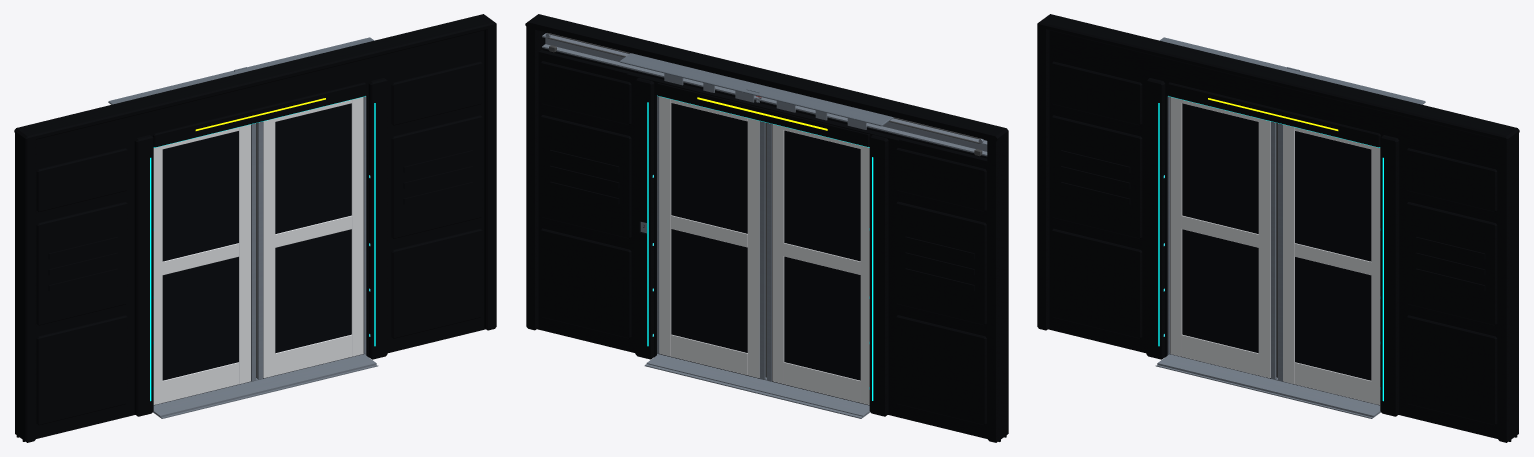
3 views of the same model, side by side, from view 1: azimuth 30°, elevation 25°; view 2: azimuth 150°, elevation 25°; view 3: azimuth 330°, elevation 25° (orthographic).
Parts seen in each view (by area): view 1: frame, leaf_R_core, leaf_L_core, leaf_R_face, leaf_L_face, threshold, leaf_R_stiles, slide_AccessPanel, leaf_L_stiles, reveal_strips, leaf_R_seal; view 2: frame, leaf_L_core, leaf_R_core, leaf_R_face, leaf_L_face, threshold, slide_Track, slide_AccessPanel, leaf_R_stiles, leaf_L_stiles, reveal_strips, slide_Belt (+1 smaller); view 3: frame, leaf_L_core, leaf_R_core, leaf_L_face, leaf_R_face, threshold, leaf_L_stiles, slide_AccessPanel, leaf_R_stiles, reveal_strips, leaf_L_seal.
Part boxes in pixels (x1,y1,x2,y2): frame: (14,14,496,442); leaf_R_core: (263,97,363,378); leaf_L_core: (154,124,251,405); leaf_R_face: (263,97,363,378); leaf_L_face: (153,124,250,404); threshold: (153,354,378,418); leaf_R_stiles: (256,96,366,379); slide_AccessPanel: (108,37,373,104); leaf_L_stiles: (251,123,255,381); reveal_strips: (150,96,375,401); leaf_R_seal: (256,123,257,377); frame: (525,14,1008,442); leaf_L_core: (772,124,869,405); leaf_R_core: (659,103,759,378); leaf_R_face: (659,96,759,377); leaf_L_face: (772,124,869,404); threshold: (644,354,870,418); slide_Track: (542,33,987,156); slide_AccessPanel: (619,53,893,126); leaf_R_stiles: (657,96,766,379); leaf_L_stiles: (767,122,771,381); reveal_strips: (647,95,873,400); slide_Belt: (547,33,980,143); frame: (1037,14,1519,442); leaf_L_core: (1170,97,1270,378); leaf_R_core: (1282,124,1379,405); leaf_L_face: (1170,97,1270,378); leaf_R_face: (1283,124,1380,404); threshold: (1155,354,1380,418); leaf_L_stiles: (1167,96,1277,379); slide_AccessPanel: (1160,37,1425,104); leaf_R_stiles: (1278,123,1282,381); reveal_strips: (1158,96,1383,401); leaf_L_seal: (1276,123,1277,376).
Size of what is drawn, in the model's own units: 4.35 by 2.7 by 0.498.
11 materials, 5 textured.
